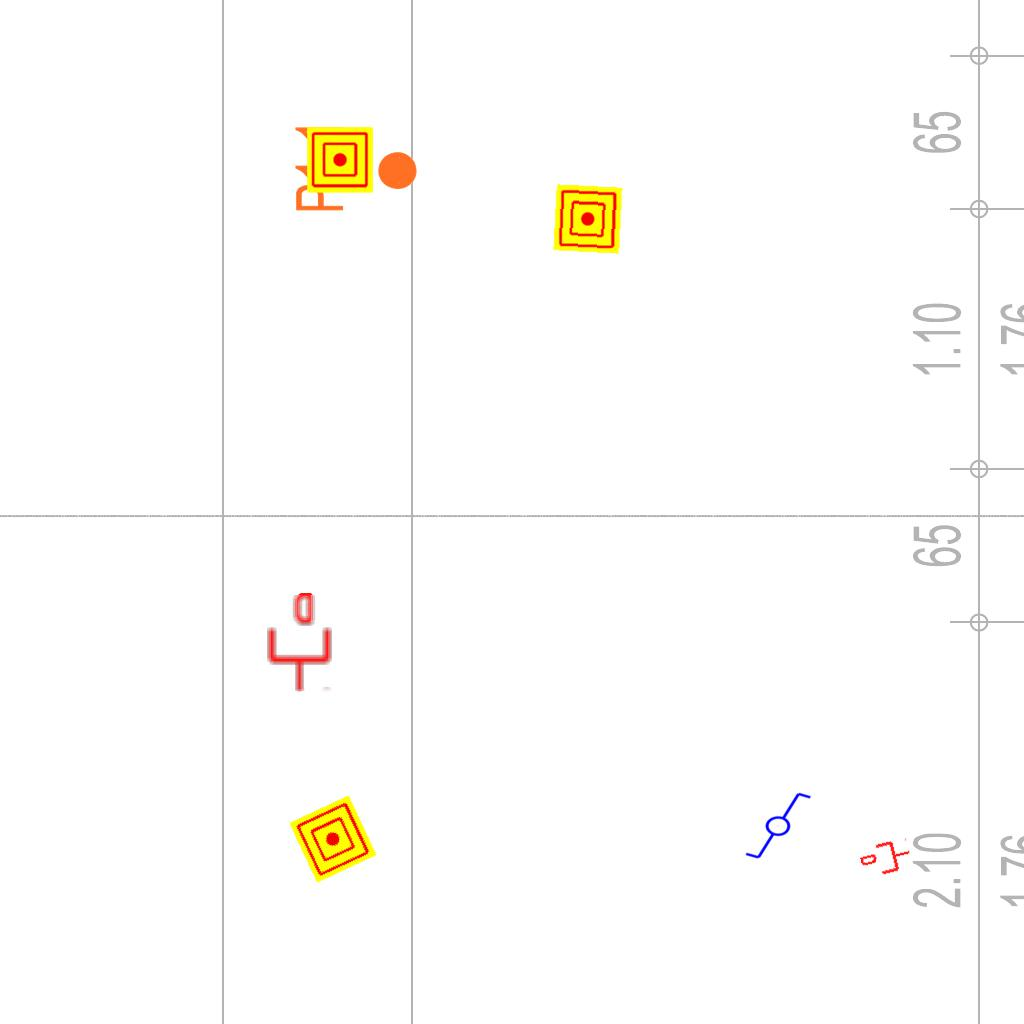Datenanschluss_einfach: (265, 593, 334, 693), (857, 835, 915, 881)
Downlight_LED_Einbauleuchten_Flur: (292, 121, 420, 214)
NAM-Nichtautomatischer_Melder: (289, 795, 377, 883), (553, 184, 623, 254), (307, 127, 373, 193)
Wechselschalter: (735, 789, 813, 861)
